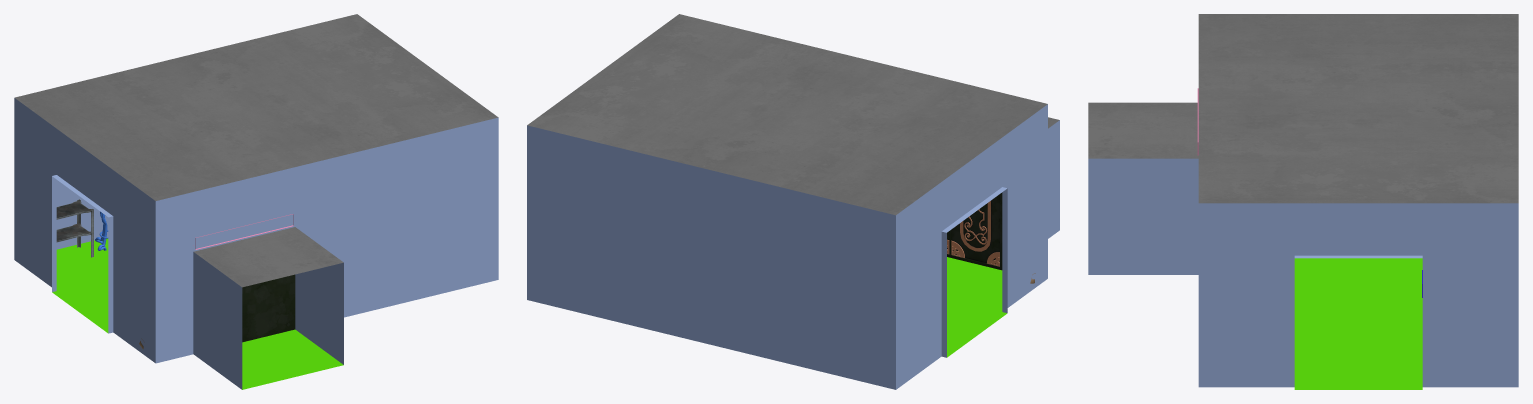
Rendered from RoomS3.fbx.
3 views of the same model, side by side, from view 1: azimuth 30°, elevation 25°; view 2: azimuth 150°, elevation 25°; view 3: azimuth 270°, elevation 25° (orthographic). The views are drawn at different scales.
Visible parts, largest first — view 1: Plane.012, Plane.014, Plane.006, Двери.006, Cube.011; view 2: Plane.012, Plane.014, Plane.006, Двери.007; view 3: Plane.014, Plane.012, Plane.006.
Boxes of the visible parts, box(x1,y1,x2,y2) form: Plane.012: box(14, 98, 498, 389); Plane.014: box(15, 14, 498, 287); Plane.006: box(52, 238, 343, 389); Двери.006: box(244, 274, 295, 341); Cube.011: box(56, 199, 93, 257); Plane.012: box(527, 104, 1059, 389); Plane.014: box(527, 14, 1059, 215); Plane.006: box(947, 257, 1006, 357); Двери.007: box(949, 192, 1002, 270); Plane.014: box(1088, 14, 1518, 203); Plane.012: box(1088, 158, 1518, 387); Plane.006: box(1294, 258, 1422, 389).
Size of the model in its own units: 720 by 317 by 672.
